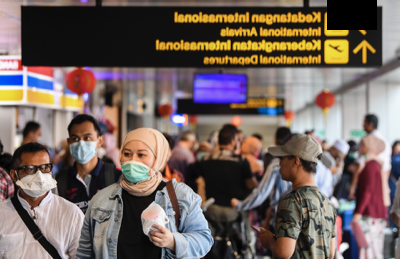with_mask: (118, 146, 158, 184), (17, 159, 54, 196), (68, 132, 99, 164)
without_mask: (276, 156, 291, 180)
